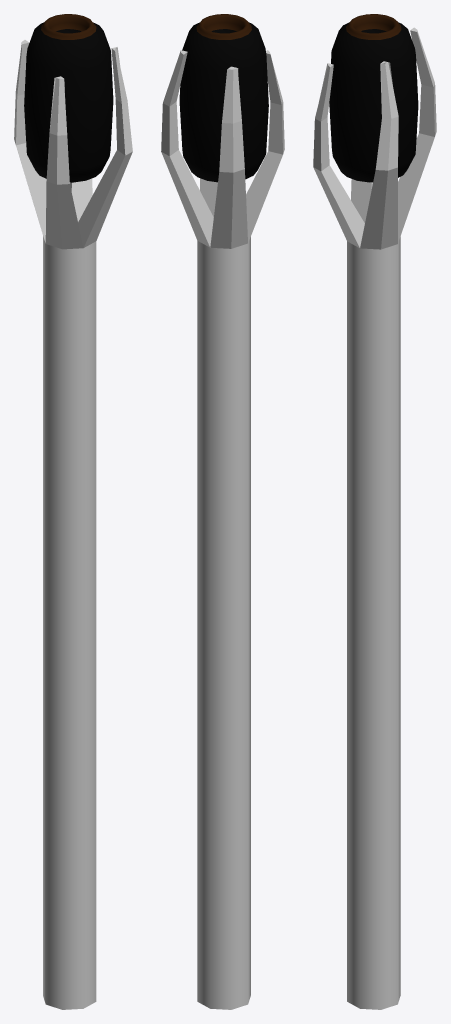
Rendered from Torch.FBX.
The picture shows the model from 3 angles, left to right: view 1: azimuth 30°, elevation 25°; view 2: azimuth 150°, elevation 25°; view 3: azimuth 330°, elevation 25°; orthographic projection.
Parts seen in each view (by area): view 1: Cylinder001, Cylinder002; view 2: Cylinder001, Cylinder002; view 3: Cylinder001, Cylinder002.
Boxes of the visible parts, <box> form: Cylinder001: <box>14,40,132,1009</box>; Cylinder002: <box>24,14,113,182</box>; Cylinder001: <box>161,50,284,1009</box>; Cylinder002: <box>179,14,268,182</box>; Cylinder001: <box>313,27,436,1009</box>; Cylinder002: <box>329,14,418,182</box>.
Size of the model in its own units: 20.82 by 231 by 24.14.
